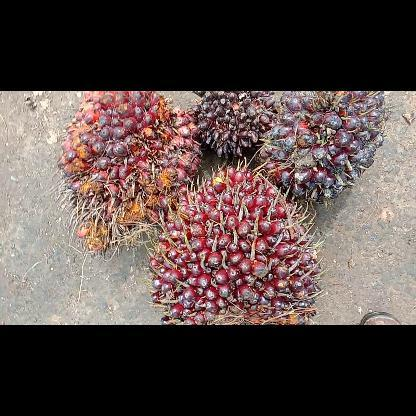Kurang masak: (146, 164, 324, 324), (258, 92, 388, 209)
TBS abnormal: (190, 90, 280, 160)
TBS masak: (54, 91, 202, 256)
